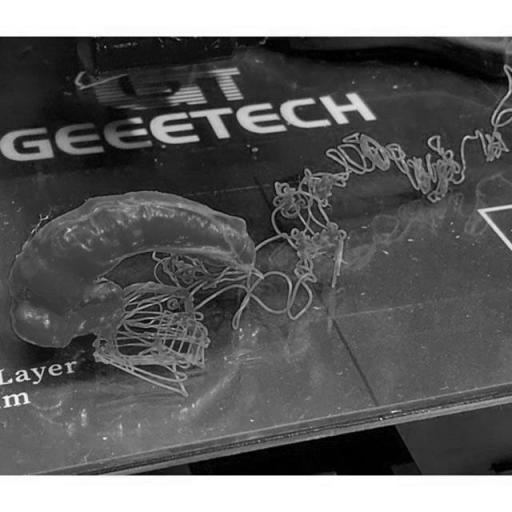spaghetti_and_stringing: (271, 62, 511, 288), (88, 252, 316, 399)
